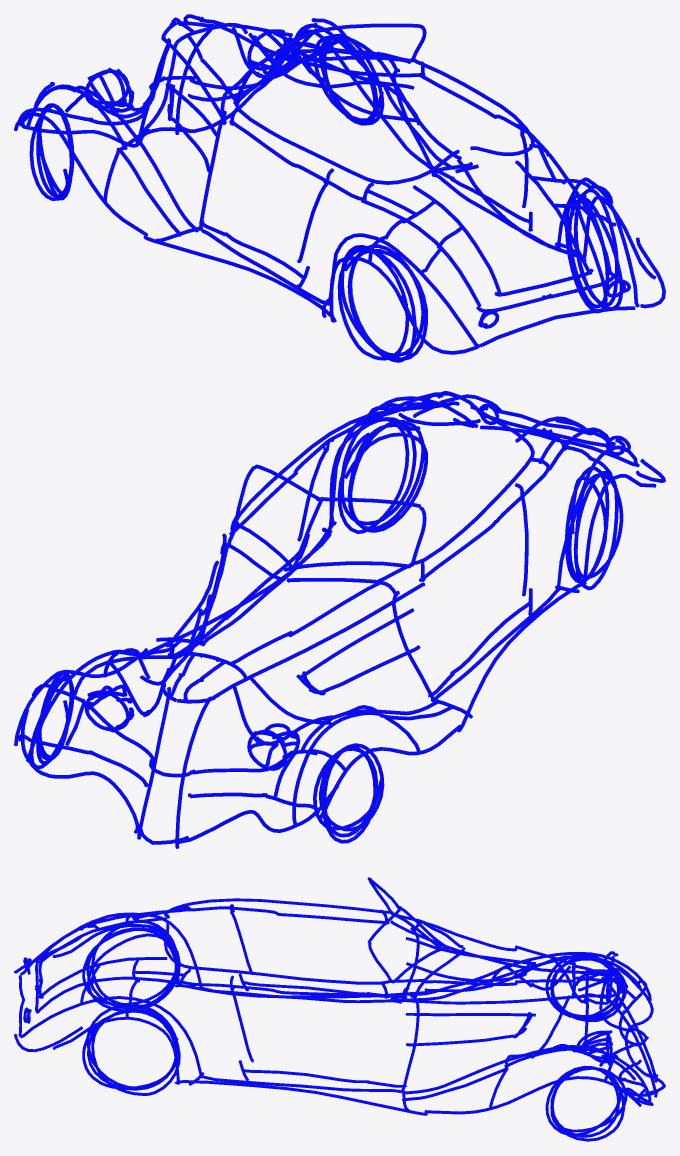
The model's file is cassie_car.glb.
The picture shows the model from 3 angles, top to bottom: view 1: azimuth 30°, elevation 25°; view 2: azimuth 150°, elevation 25°; view 3: azimuth 270°, elevation 25°; orthographic projection. The views are drawn at different scales.
Visible parts, largest first — view 1: cassie_car; view 2: cassie_car; view 3: cassie_car.
Boxes of the visible parts, box(x1,y1,x2,y2) form: cassie_car: box(14, 14, 665, 362); cassie_car: box(14, 391, 665, 848); cassie_car: box(14, 877, 665, 1141).
Size of the model in its own units: 0.3988 by 0.2733 by 0.8818.
